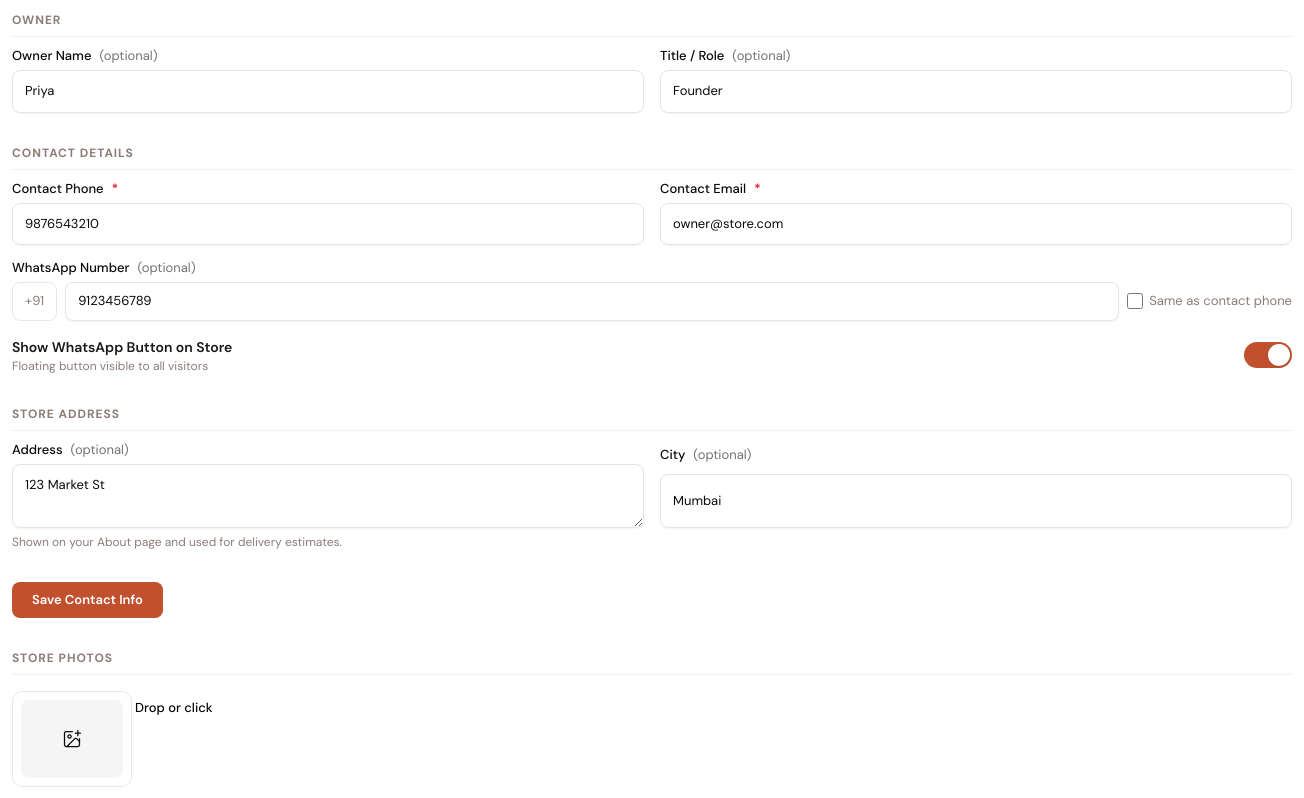
Scenario: ContactInfoTab › shows required-field errors when phone and email are cleared
The image size is (1304, 798).
Check: the field showing "owner@store.com" is shown, box [660,203,1292,245]
Clear the field labelled "Contact Phone *" at (328, 224), box [12,203,644,245]
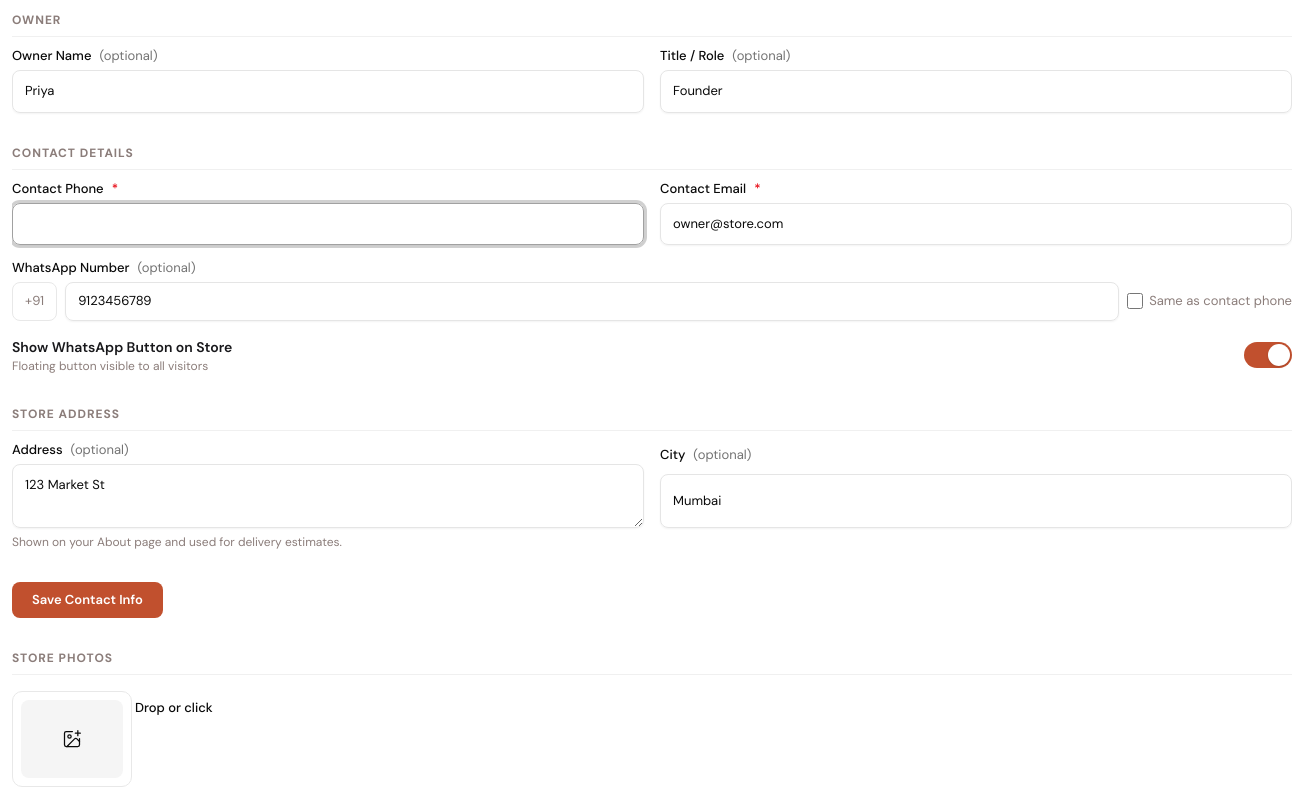
Clear the field labelled "Contact Email *" at (976, 224), box [660,203,1292,245]
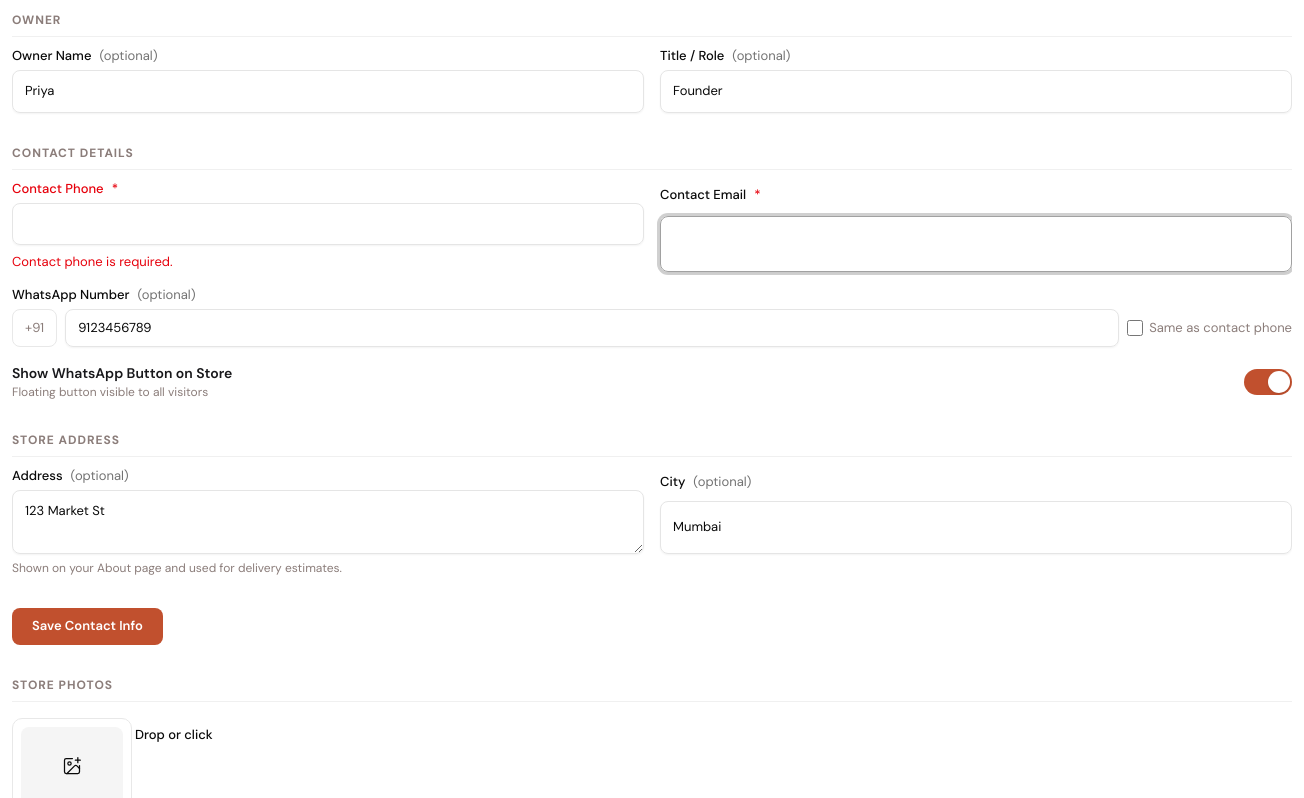
Click the button "Save Contact Info".
click(87, 627)  # box [12,608,163,645]
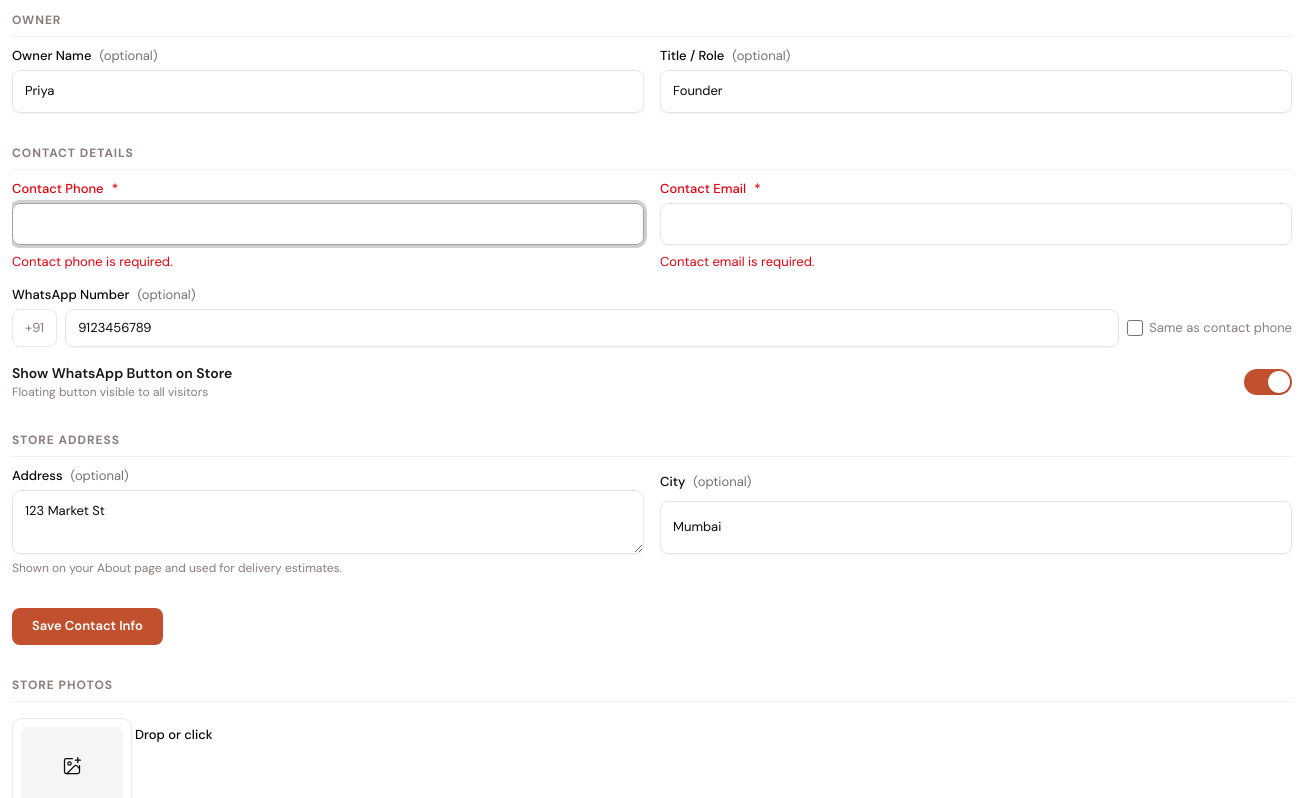
Check: the text "Contact phone is required." is shown, box [12,253,172,270]
Check: the text "Contact email is required." is shown, box [660,253,814,270]
